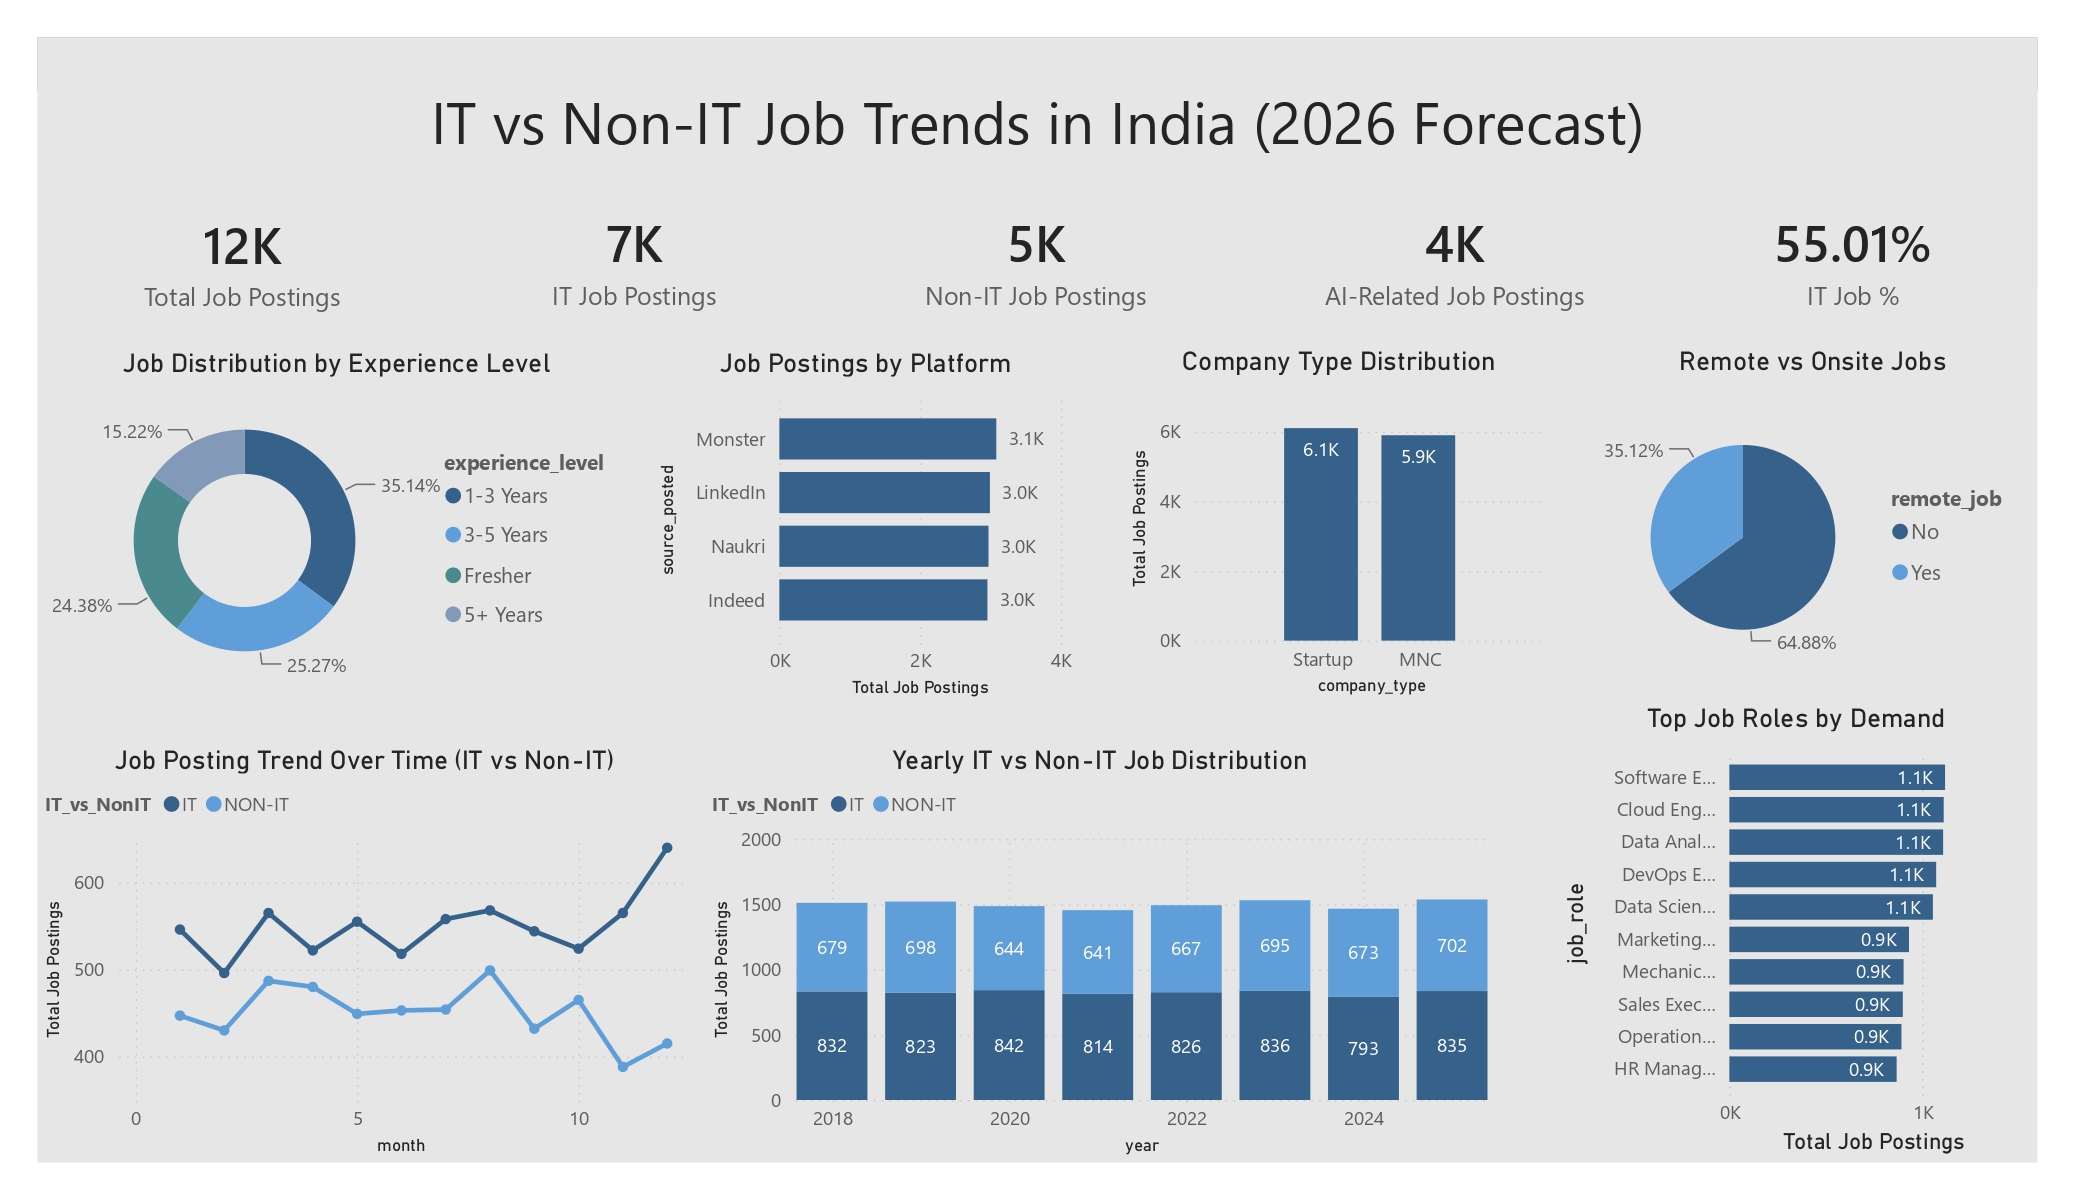

The dashboard page shown, as its layout file describes it:
{"tool":"powerbi","page":{"name":"Page 1","canvas":[1280,720],"ordinal":0},"visuals":[{"type":"cardVisual","fields":{"Data":["Sheet1.Total Job Postings"]},"box":[31.4,86.9,200.3,112.2],"z":0},{"type":"cardVisual","fields":{"Data":["Sheet1.IT Job Postings"]},"box":[282.3,85.7,200.3,112.2],"z":1},{"type":"cardVisual","fields":{"Data":["Sheet1.Non-IT Job Postings"]},"box":[539.3,85.7,200.3,112.2],"z":2},{"type":"cardVisual","fields":{"Data":["Sheet1.AI Job Postings"]},"box":[785.4,85.7,244.9,112.2],"z":3},{"type":"cardVisual","fields":{"Data":["Sheet1.IT Job %"]},"box":[1061.7,85.7,200.3,112.2],"z":4},{"type":"lineChart","title":"Job Posting Trend Over Time (IT vs Non-IT)","fields":{"Category":["Sheet1.month"],"Y":["Sheet1.Total Job Postings"],"Series":["Sheet1.IT_vs_NonIT"]},"box":[0,452.4,418.2,267.8],"z":5},{"type":"columnChart","title":"Yearly IT vs Non-IT Job Distribution","fields":{"Category":["Sheet1.year"],"Y":["Sheet1.Total Job Postings"],"Series":["Sheet1.IT_vs_NonIT"]},"box":[427.1,452.4,505.5,267.8],"z":6},{"type":"barChart","title":"Top Job Roles by Demand","fields":{"Category":["Sheet1.job_role"],"Y":["Sheet1.Total Job Postings"]},"box":[971.2,424.7,308.8,295.6],"z":7},{"type":"donutChart","title":"Job Distribution by Experience Level","fields":{"Y":["Sheet1.Total Job Postings"],"Category":["Sheet1.experience_level"]},"box":[0,198.1,382.7,228.7],"z":8},{"type":"pieChart","title":"Remote vs Onsite Jobs","fields":{"Category":["Sheet1.remote_job"],"Y":["Sheet1.Total Job Postings"]},"box":[991.7,196.9,288.6,227.4],"z":10},{"type":"barChart","title":"Job Postings by Platform","fields":{"Category":["Sheet1.source_posted"],"Y":["Sheet1.Total Job Postings"]},"box":[393.3,197.9,273.9,229.2],"z":11},{"type":"columnChart","title":"Company Type Distribution","fields":{"Y":["Sheet1.Total Job Postings"],"Category":["Sheet1.company_type"]},"box":[694.6,196.9,276.4,228.7],"z":12},{"type":"textbox","box":[0,22.9,1280,76],"z":13}]}

Visuals, with their boxes on the page's 1280x720 design canvas (x1, y1, x2, y2). These are canvas units, not pixel positions in the 2075x1200 screenshot, which may show the page scaled, cropped or inside an application window:
cardVisual - Sheet1.Total Job Postings: 31/87/232/199
cardVisual - Sheet1.IT Job Postings: 282/86/483/198
cardVisual - Sheet1.Non-IT Job Postings: 539/86/740/198
cardVisual - Sheet1.AI Job Postings: 785/86/1030/198
cardVisual - Sheet1.IT Job %: 1062/86/1262/198
"Job Posting Trend Over Time (IT vs Non-IT)" lineChart: 0/452/418/720
"Yearly IT vs Non-IT Job Distribution" columnChart: 427/452/933/720
"Top Job Roles by Demand" barChart: 971/425/1280/720
"Job Distribution by Experience Level" donutChart: 0/198/383/427
"Remote vs Onsite Jobs" pieChart: 992/197/1280/424
"Job Postings by Platform" barChart: 393/198/667/427
"Company Type Distribution" columnChart: 695/197/971/426
textbox: 0/23/1280/99
